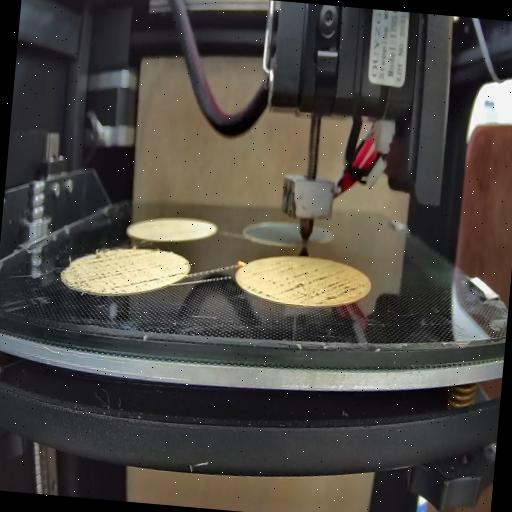under_extrusion: (245, 264, 368, 306), (67, 244, 150, 296), (150, 263, 188, 290)
